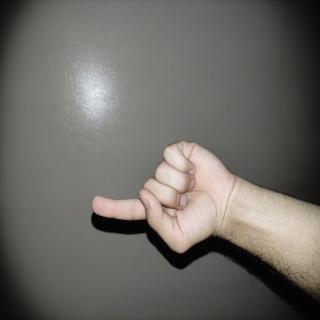BAA: (43, 115, 134, 320)
